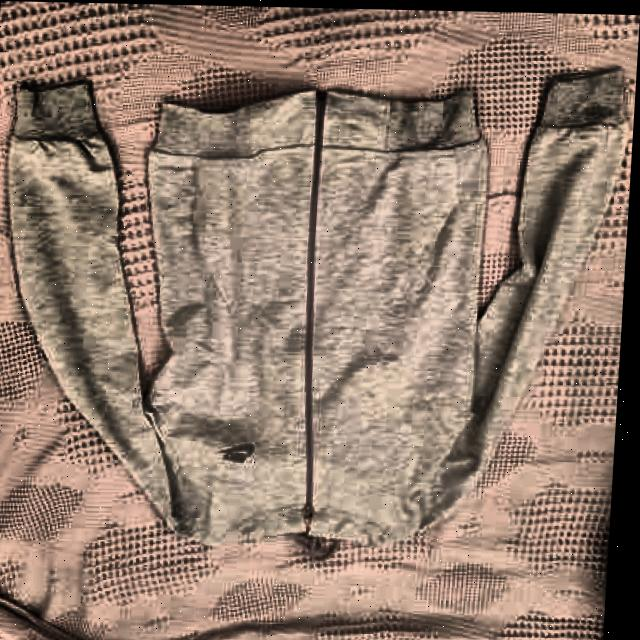clothes: (0, 75, 627, 553)
